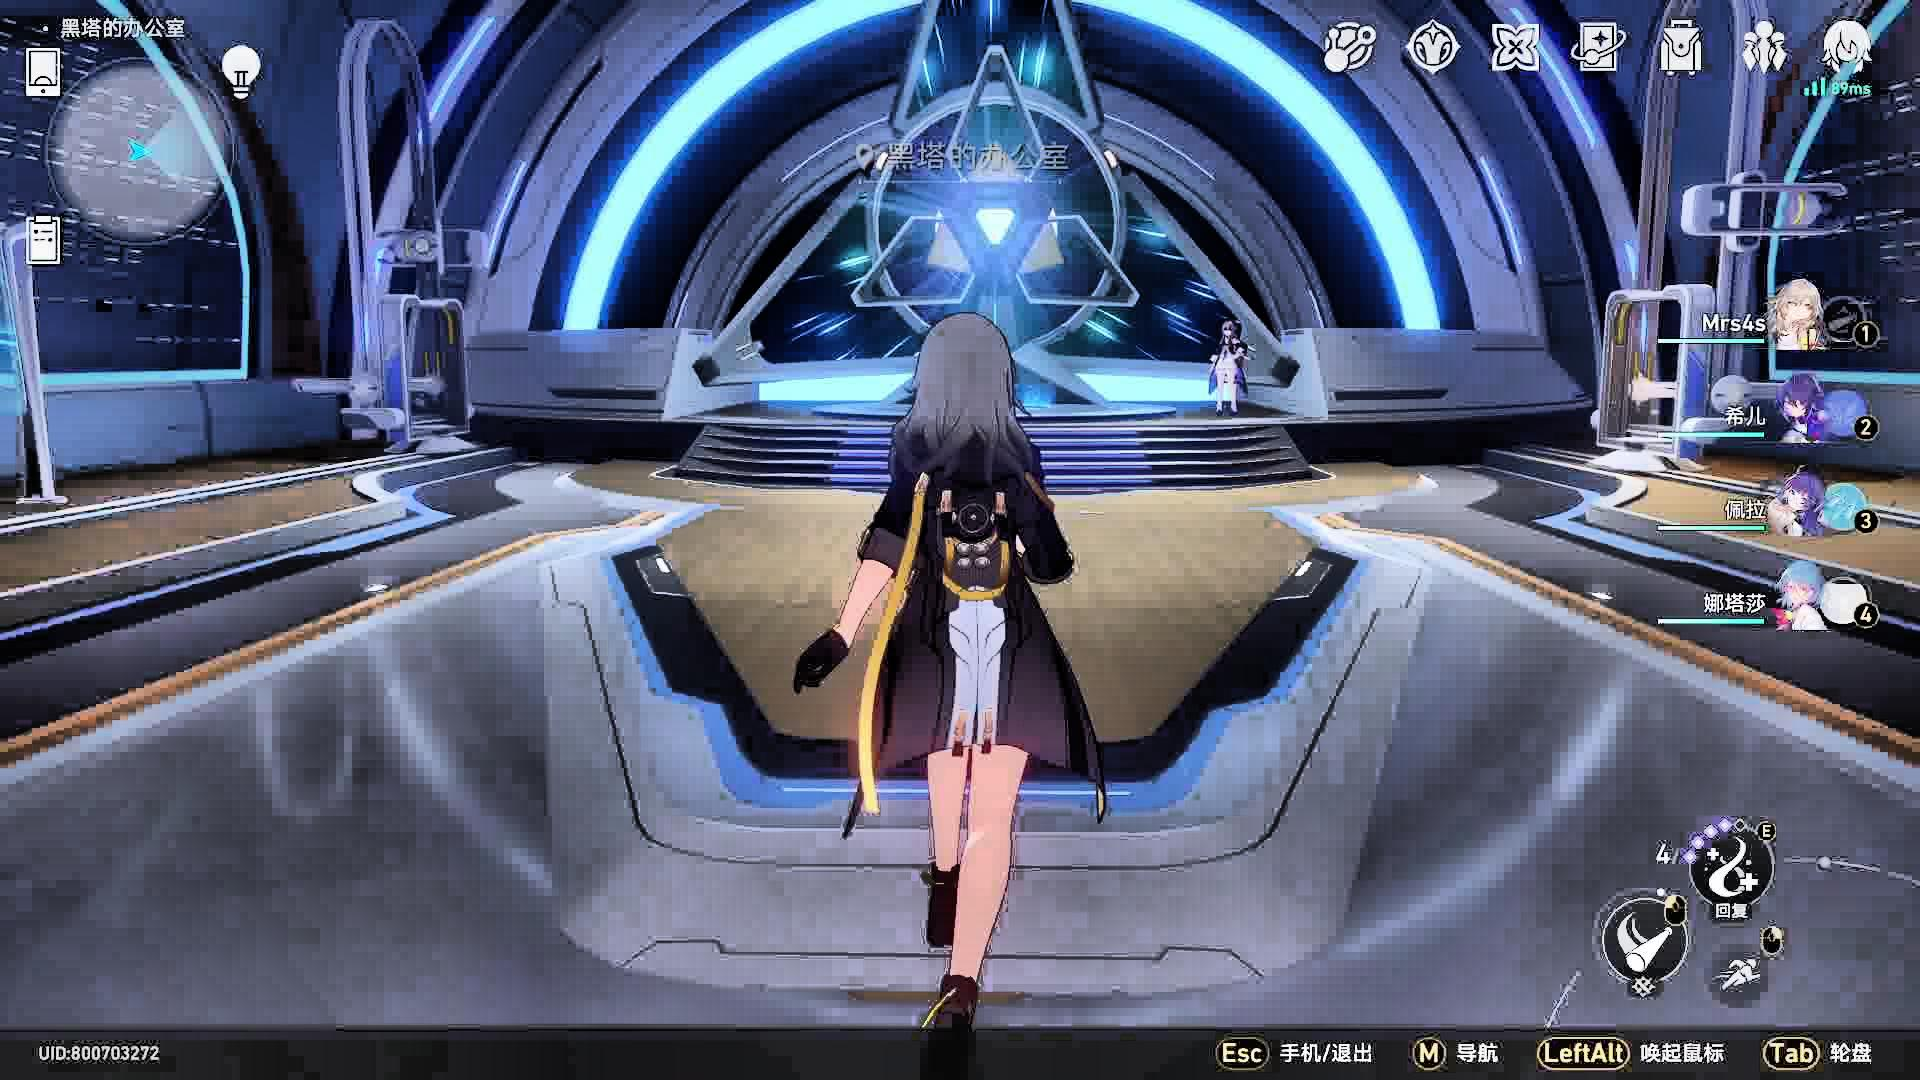Self: (798, 313, 1105, 1023)
TeamMate: (1197, 315, 1257, 419)
